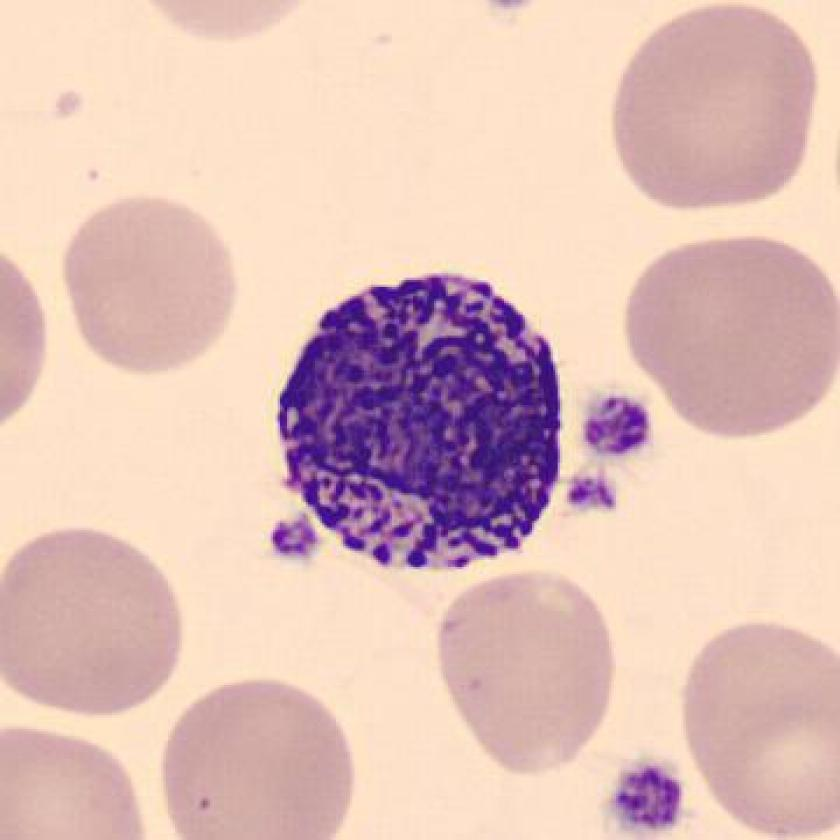basophil: (260, 258, 591, 582)
